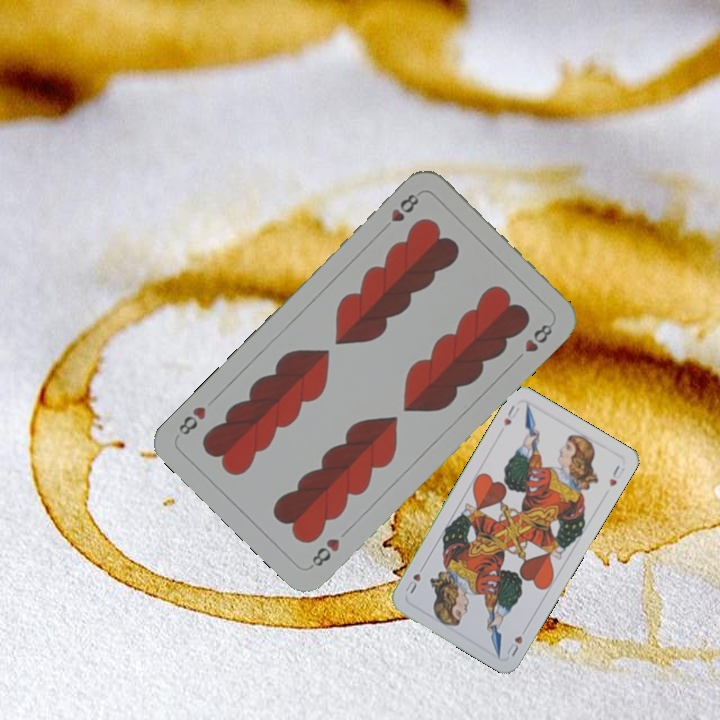H8: (305, 534, 343, 571), (387, 189, 422, 224)
HU: (502, 632, 525, 659), (500, 401, 522, 429)
